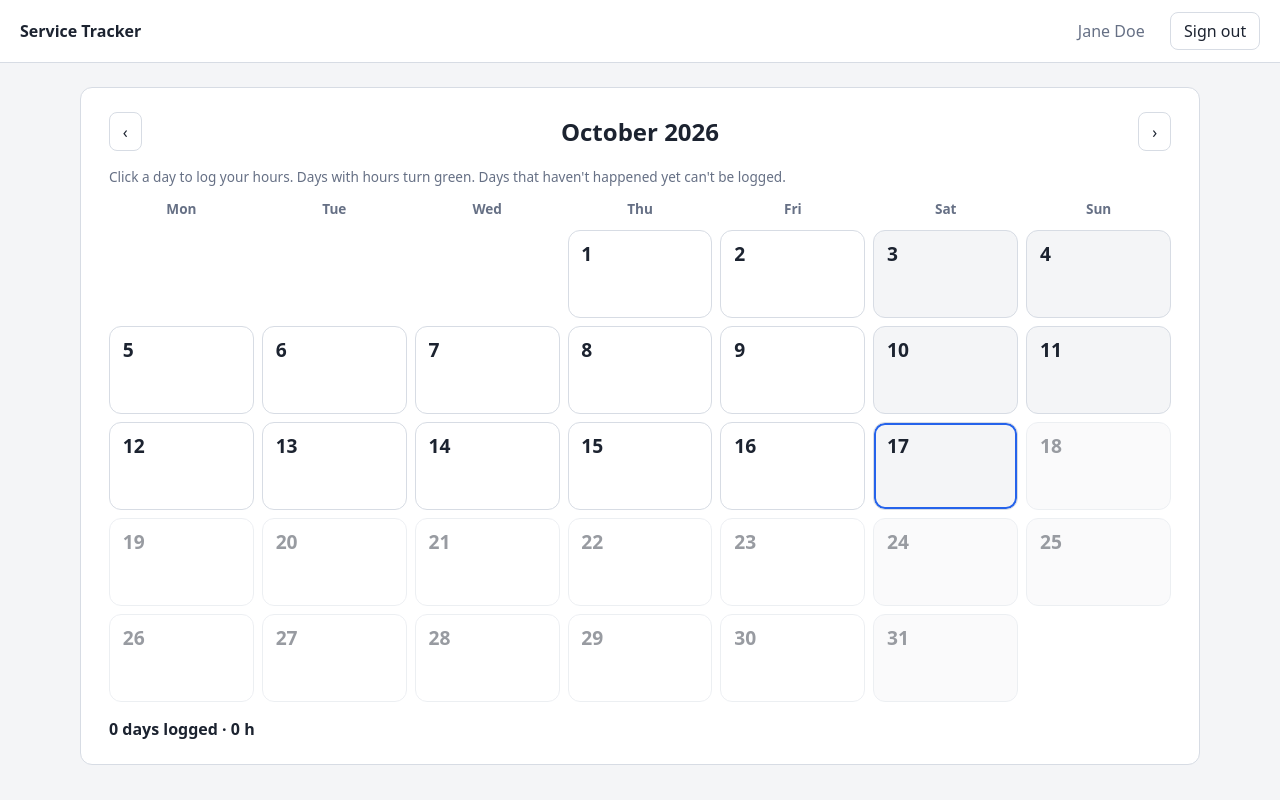
App › opens the profile when the user clicks their name, and the calendar again from the brand
Click the link "Jane Doe" at coordinates (1111, 31), box [1078,20,1145,42]
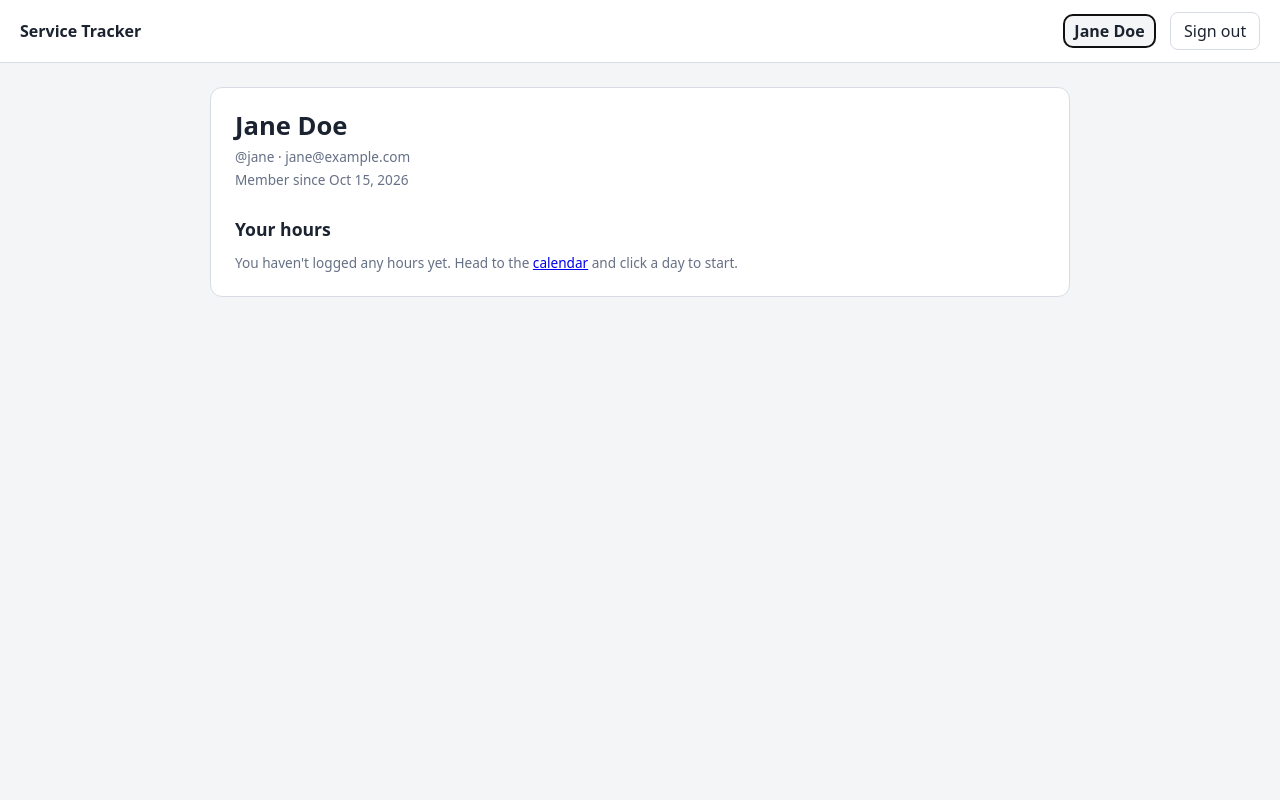
Expected: the heading "Jane Doe" is shown, [235,108,348,143]
Expected: the heading "Your hours" is shown, [235,217,331,241]
Click the link "Service Tracker" at coordinates (81, 31), box [20,20,141,42]
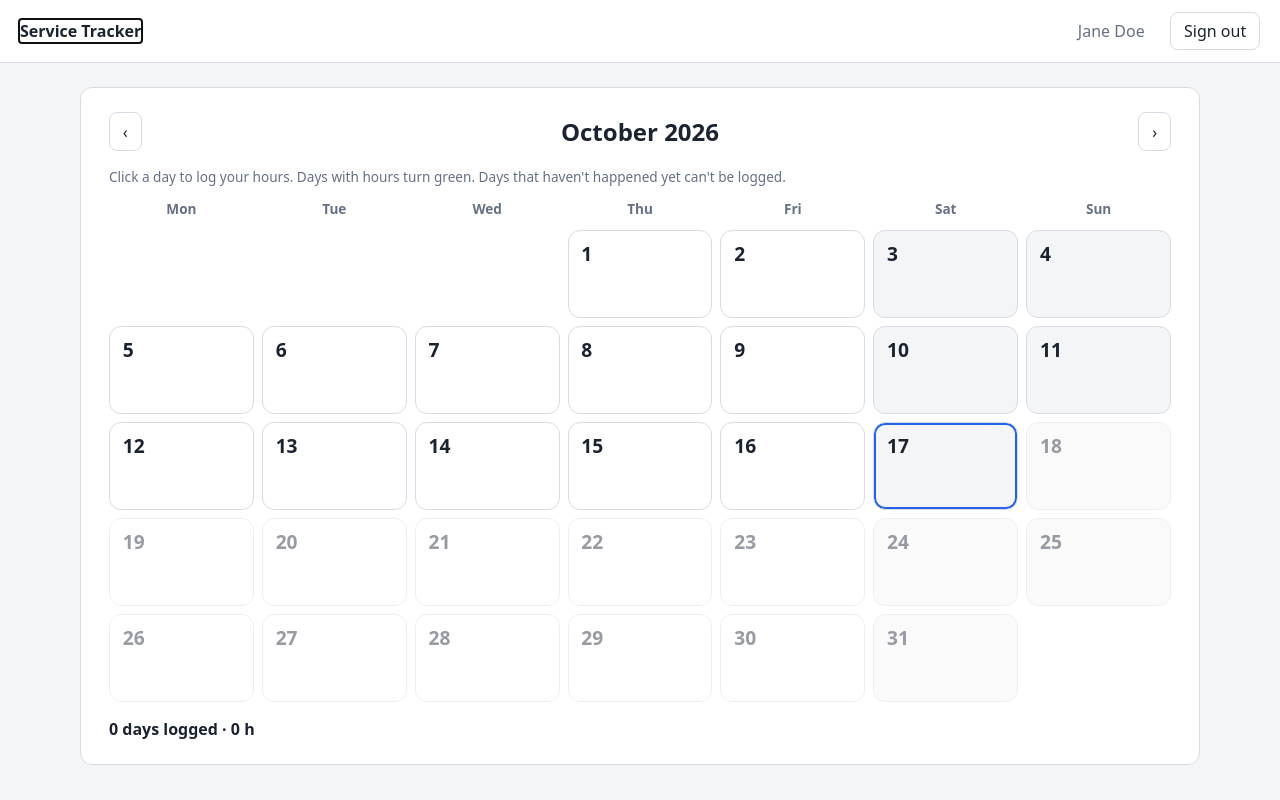
Expected: the button named "Previous month" is shown, [109,112,142,151]
